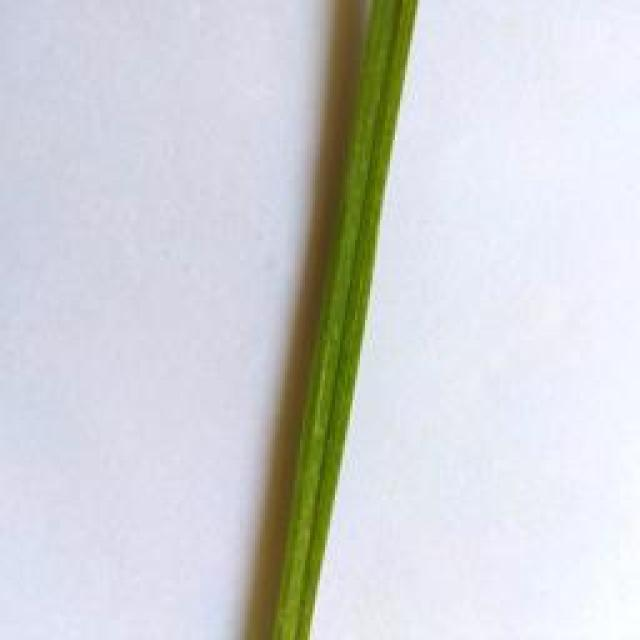Healthy-Plant: (274, 0, 419, 637)
